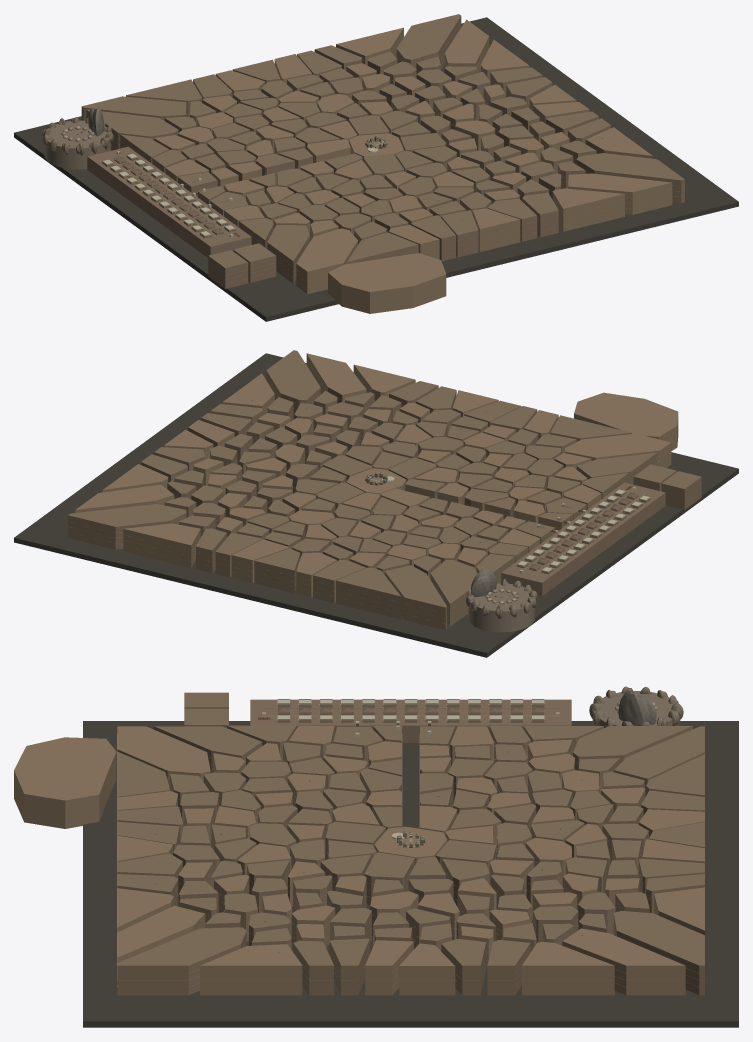
The model's file is shattered-plains.glb.
The picture shows the model from 3 angles, top to bottom: view 1: azimuth 30°, elevation 25°; view 2: azimuth 150°, elevation 25°; view 3: azimuth 270°, elevation 25°; orthographic projection. The views are drawn at different scales.
Visible parts, largest first — view 1: Shattered_Plains_v2_stone; view 2: Shattered_Plains_v2_stone; view 3: Shattered_Plains_v2_stone.
Part boxes in pixels (x1,y1,x2,y2): Shattered_Plains_v2_stone: [14, 14, 738, 321]; Shattered_Plains_v2_stone: [14, 350, 738, 657]; Shattered_Plains_v2_stone: [14, 686, 738, 1027].
Bounding box in the file's own units: 1053 × 101 × 1061.
